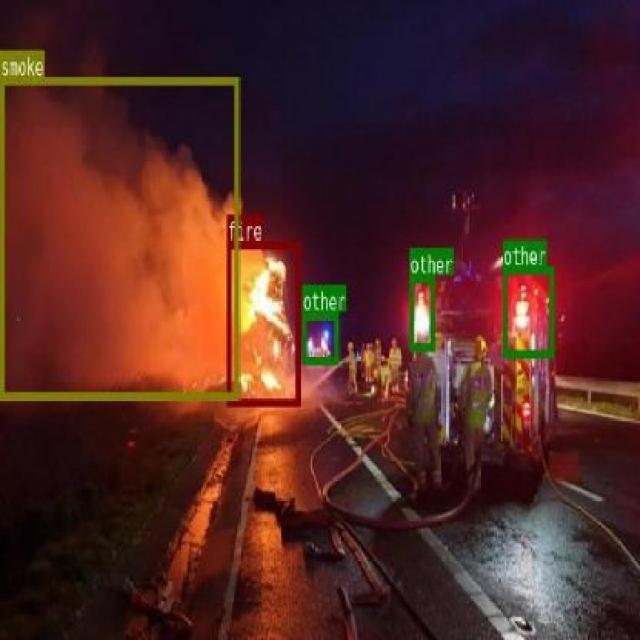Fire: (227, 241, 300, 404)
Smoke: (0, 76, 238, 397)
